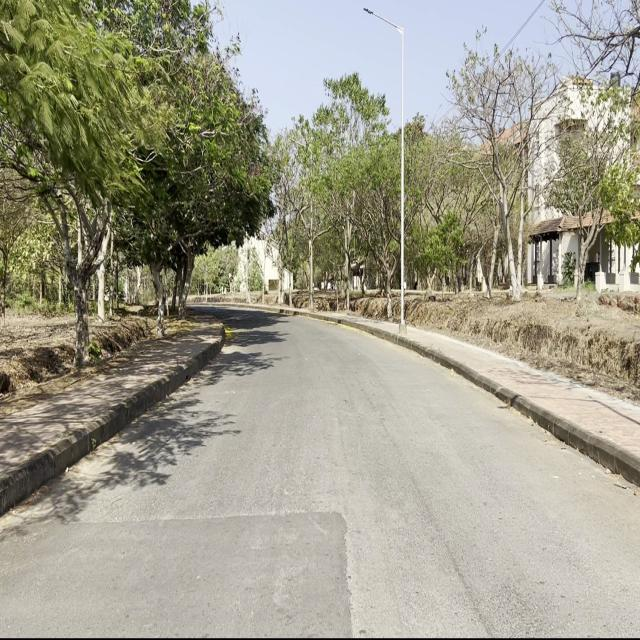Road: (4, 308, 635, 632)
